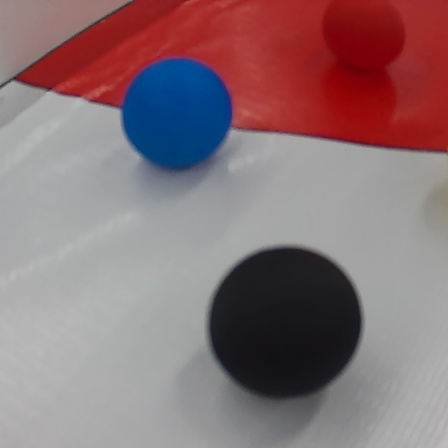black: (208, 246, 364, 396)
blue: (118, 59, 244, 173)
red: (323, 3, 406, 72)
red_base: (10, 1, 448, 154)
